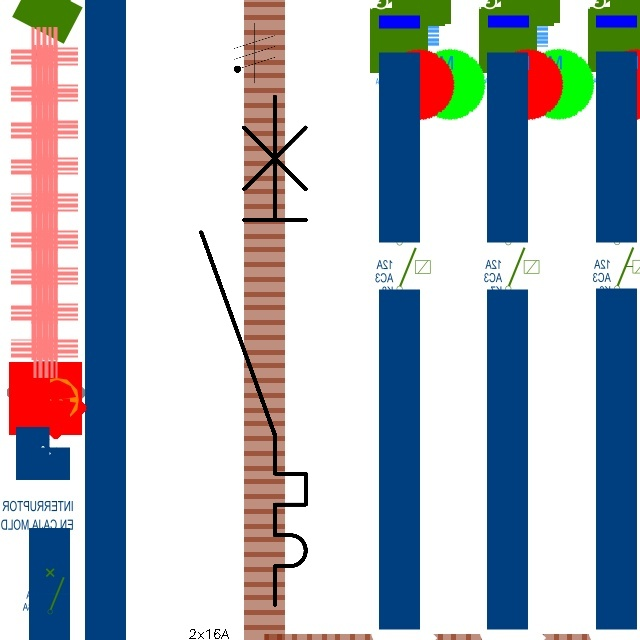interruptor_termomagnetico: (188, 83, 319, 617)
